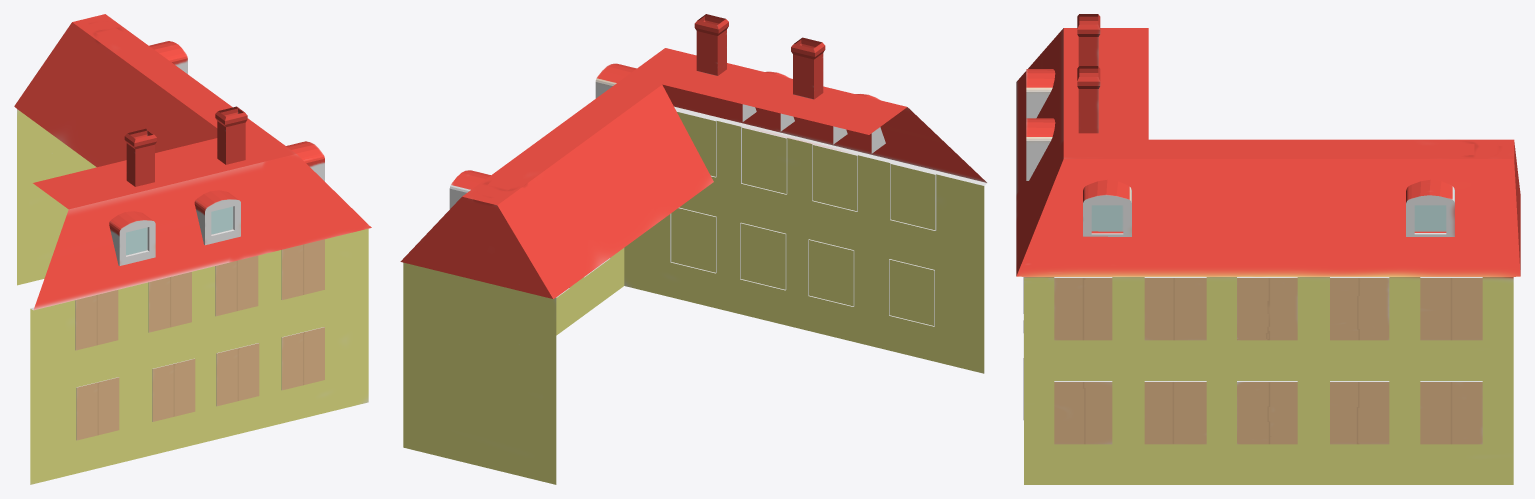
File: House4.fbx
3 views of the same model, side by side, from view 1: azimuth 30°, elevation 25°; view 2: azimuth 150°, elevation 25°; view 3: azimuth 270°, elevation 25° (orthographic). The views are drawn at different scales.
Visible parts, largest first — view 1: Cube; view 2: Cube; view 3: Cube.
Part boxes in pixels (x1=…): Cube: x1=14, y1=14, x2=371, y2=484; Cube: x1=400, y1=14, x2=987, y2=484; Cube: x1=1016, y1=14, x2=1520, y2=484.
Bounding box in the file's own units: 1891 × 1580 × 2059.
